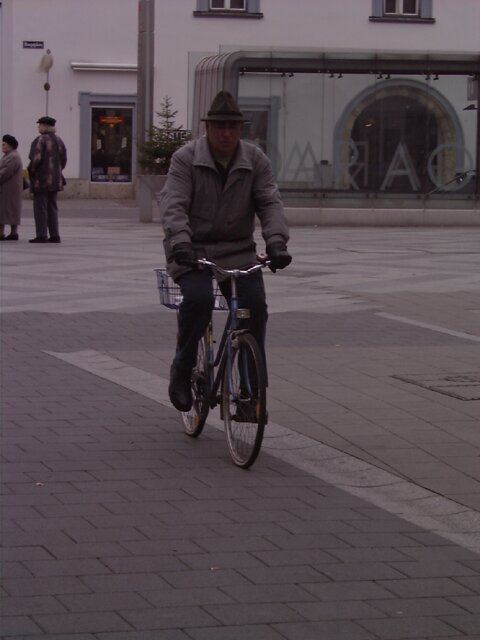person: (156, 89, 300, 439)
